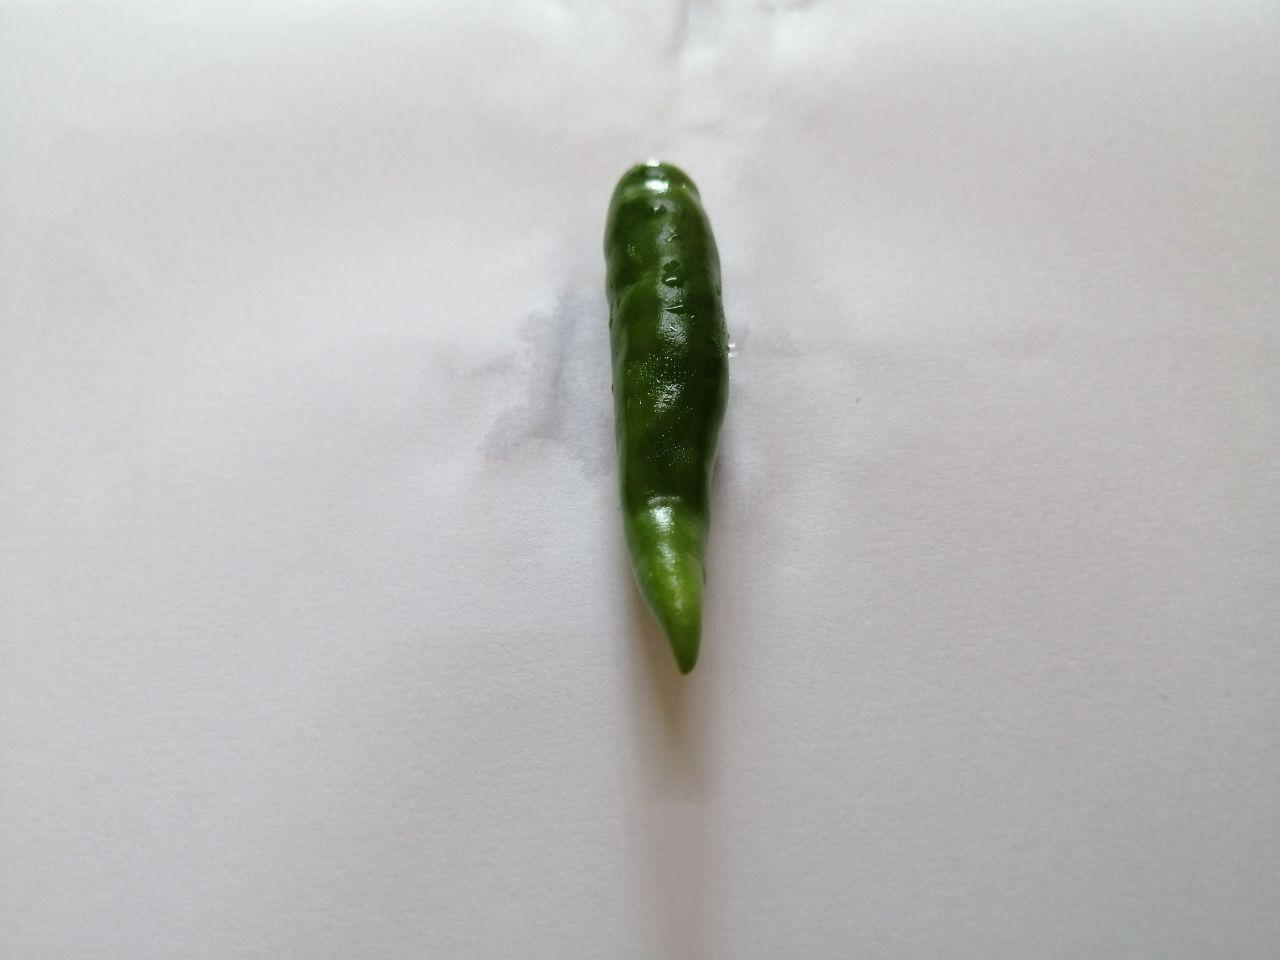lada hijau: (584, 144, 752, 689)
